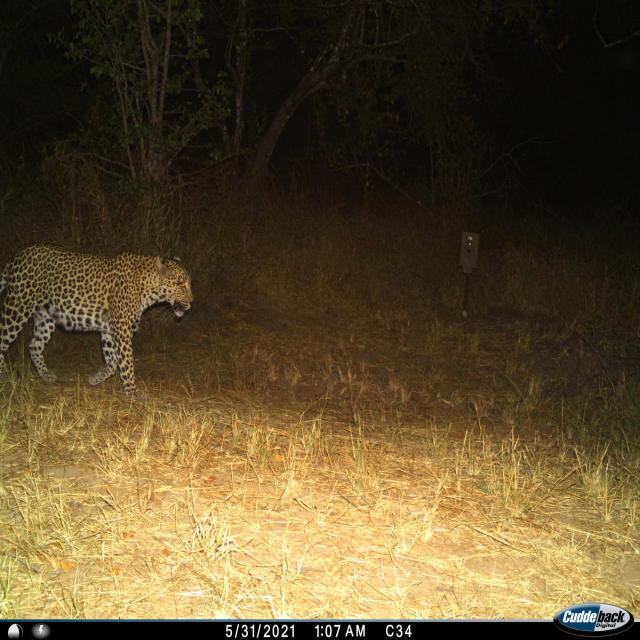Leopard: (0, 234, 190, 410)
